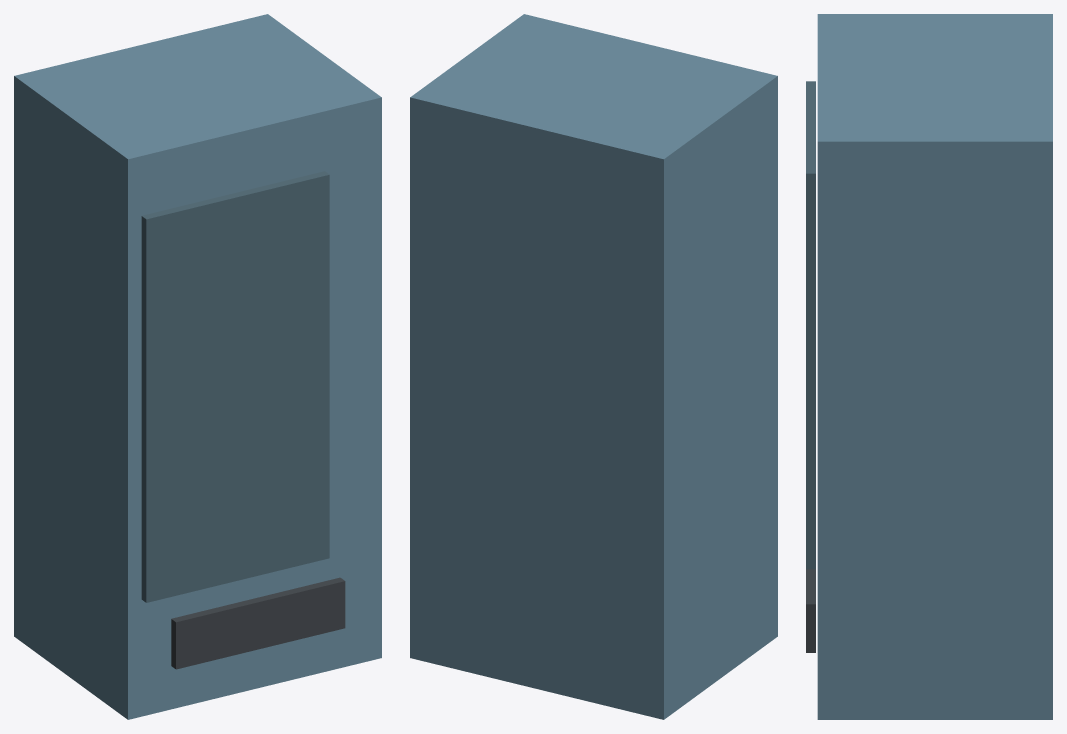
File: long-haul-trucking-and-truck-stop-vending-machine-a4ee74c2__14006.glb
The picture shows the model from 3 angles, left to right: view 1: azimuth 30°, elevation 25°; view 2: azimuth 150°, elevation 25°; view 3: azimuth 270°, elevation 25°; orthographic projection. The views are drawn at different scales.
Parts seen in each view (by area): view 1: vending-machine; view 2: vending-machine; view 3: vending-machine.
Boxes of the visible parts, x1,y1,x2,y2 form: vending-machine: [14, 14, 381, 719]; vending-machine: [410, 14, 777, 719]; vending-machine: [806, 14, 1052, 719].
Bounding box in the file's own units: 0.9 × 1.9 × 0.735.
